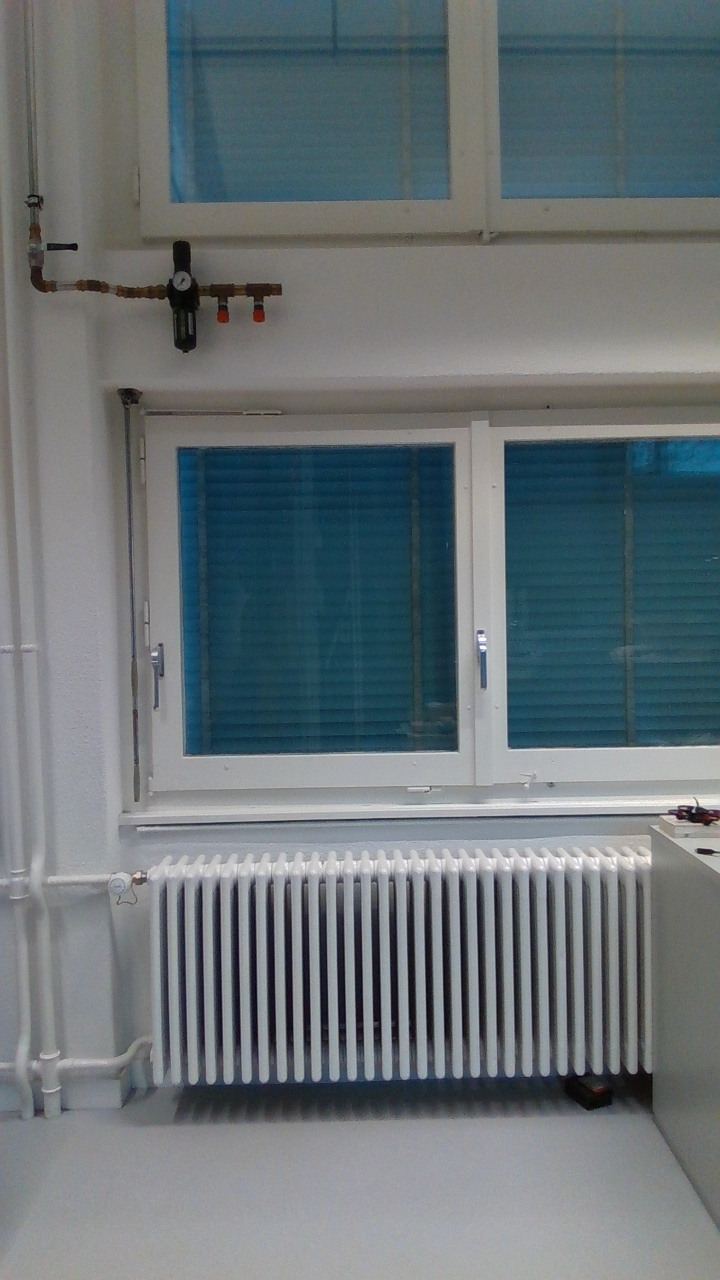Knob_Radiator: (101, 865, 144, 907)
Radiator: (141, 841, 635, 1094)
